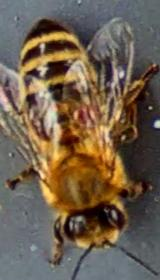varroa_mite: (64, 96, 108, 130)
